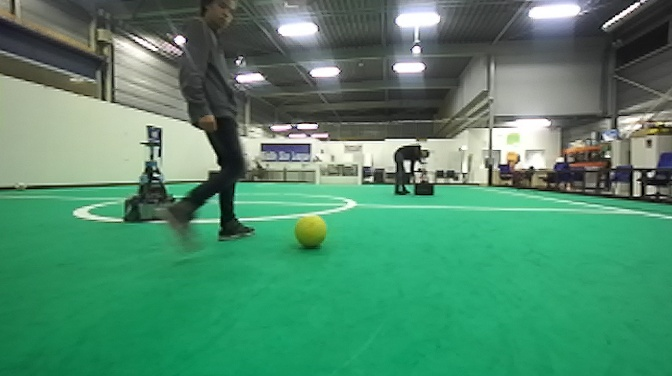ball: (290, 210, 329, 252), (11, 179, 29, 195)
goal: (314, 161, 365, 187)
goalpost: (355, 159, 364, 187), (314, 161, 321, 187)
human: (156, 1, 261, 246), (392, 141, 432, 199)
robot: (118, 137, 180, 225), (410, 161, 437, 198)
